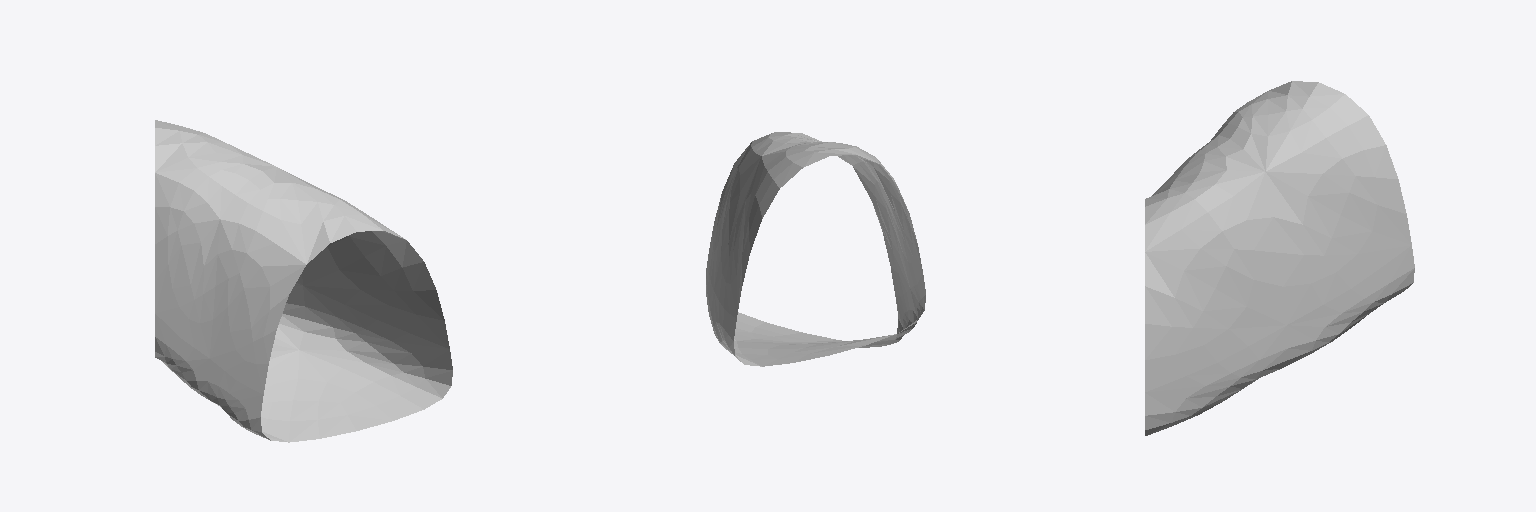
The model's file is cave_601_2.obj.
3 renders of one model, left to right at view 1: azimuth 30°, elevation 25°; view 2: azimuth 150°, elevation 25°; view 3: azimuth 270°, elevation 25°, orthographic.
Parts seen in each view (by area): view 1: cave_601_2_Cube.021; view 2: cave_601_2_Cube.021; view 3: cave_601_2_Cube.021.
Boxes of the visible parts, x1=… form: cave_601_2_Cube.021: x1=155, y1=120, x2=452, y2=442; cave_601_2_Cube.021: x1=706, y1=132, x2=925, y2=366; cave_601_2_Cube.021: x1=1145, y1=81, x2=1414, y2=435.
Size of the model in its own units: 7.91 by 7.81 by 7.14.